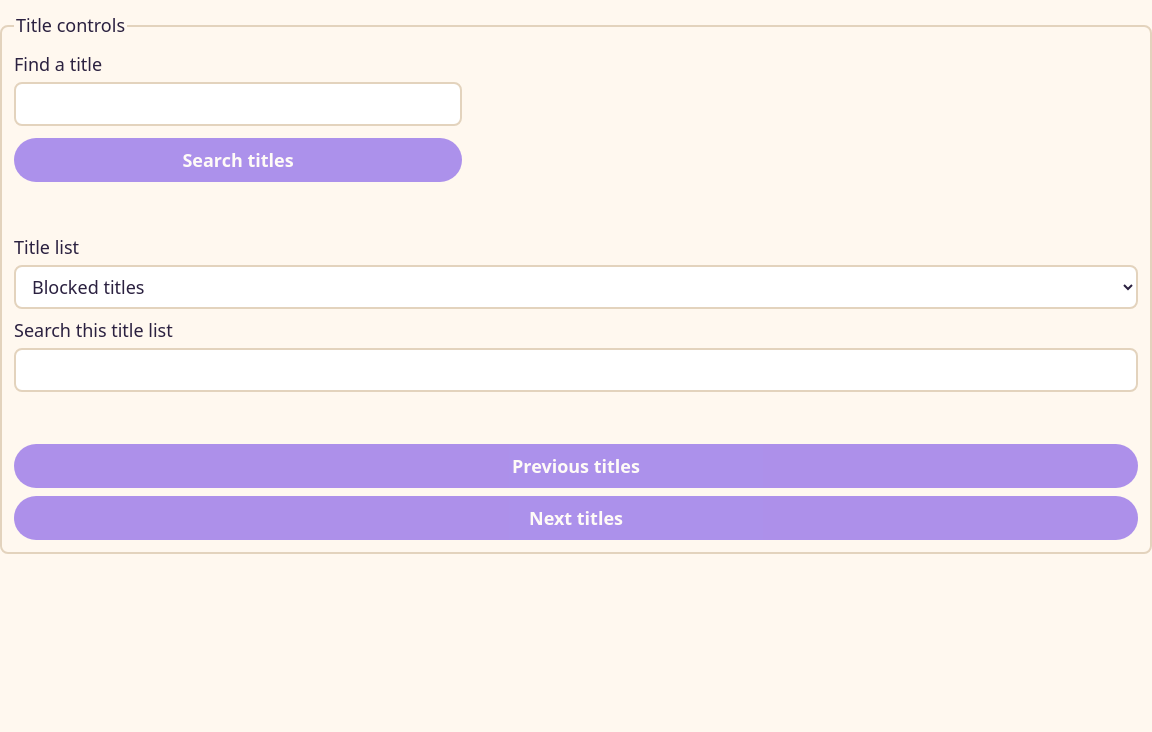
Test case: debounces filters for 300 ms, aborts old lookups and ignores stale responses
Type "f" into the search field labelled "Search this title list". click: {"x": 576, "y": 370}
box: top-left (14, 348), bottom-right (1138, 392)
Wait 200 ms
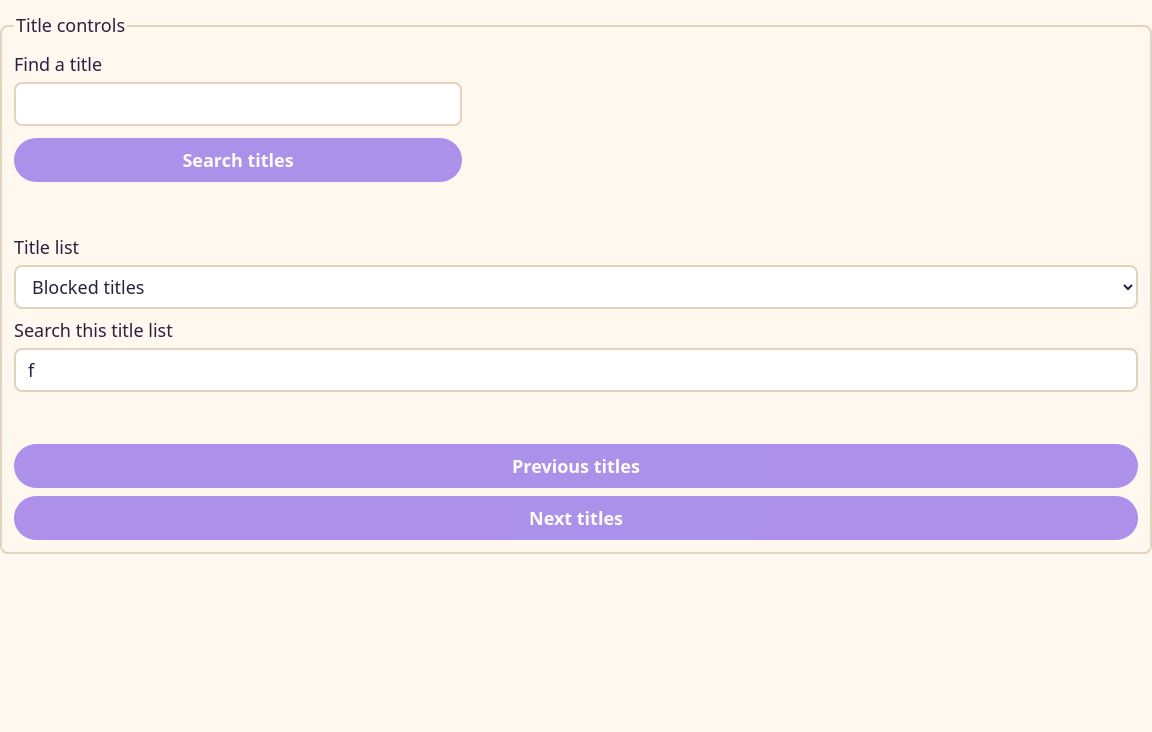
Replace the text in the search field labelled "Search this title list" with "first". click: {"x": 576, "y": 370}
box: top-left (14, 348), bottom-right (1138, 392)
Wait 300 ms
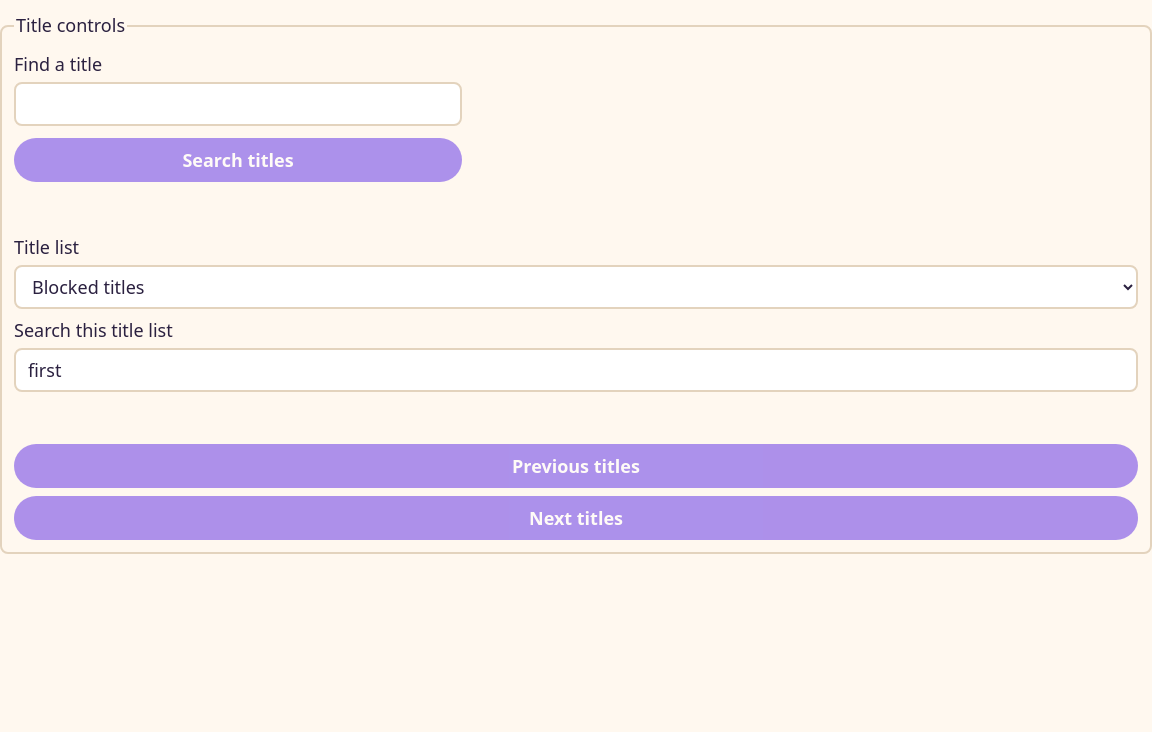
Replace the text in the search field labelled "Search this title list" with "second". click: {"x": 576, "y": 370}
box: top-left (14, 348), bottom-right (1138, 392)
Wait 300 ms
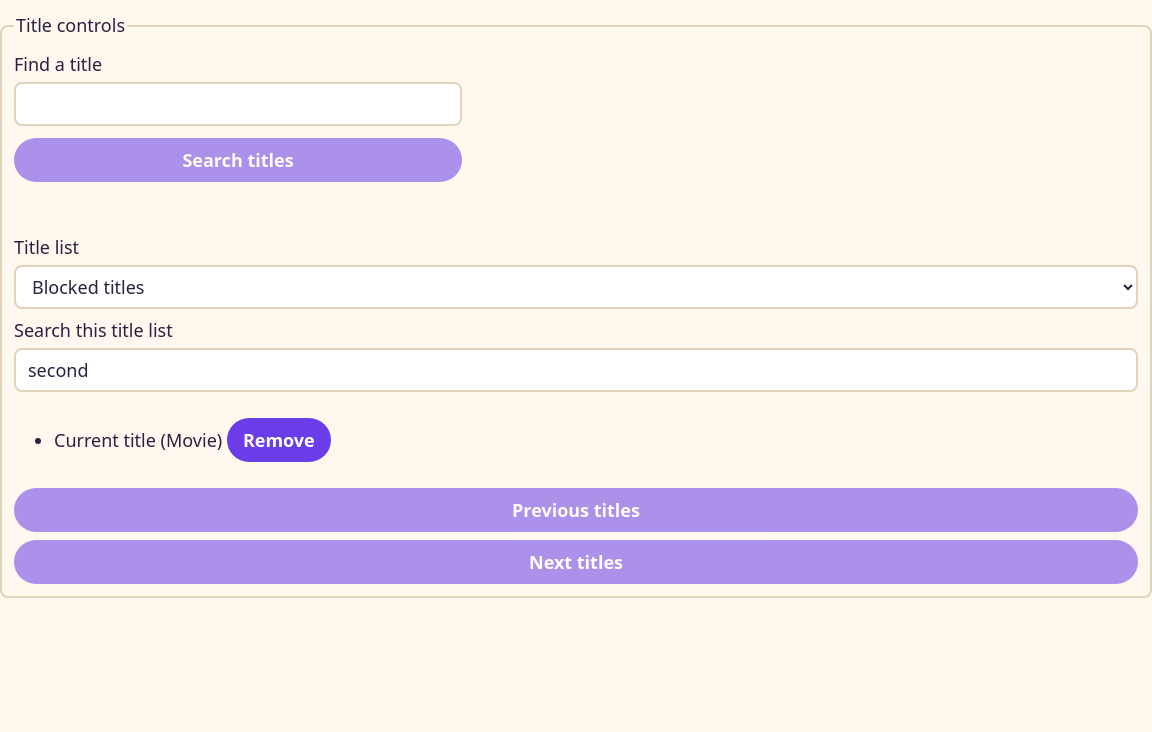
Expected: the list item "Current title (Movie) Remove" is shown, top-left (54, 418), bottom-right (331, 462)
